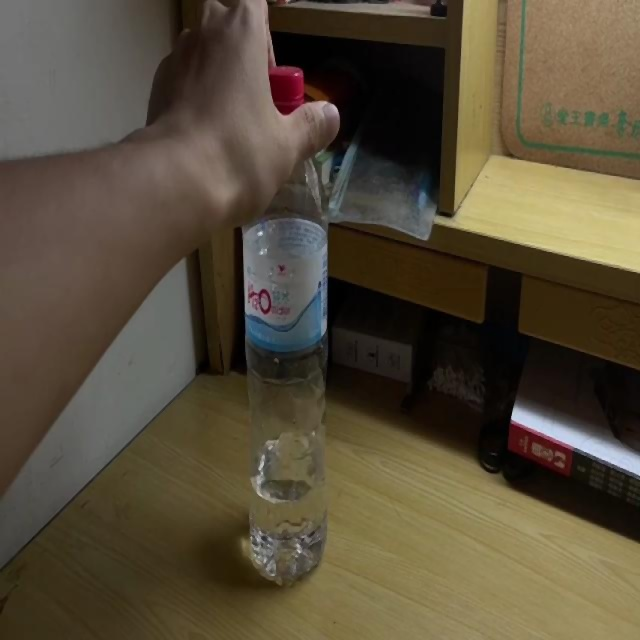Water: (240, 64, 330, 590)
